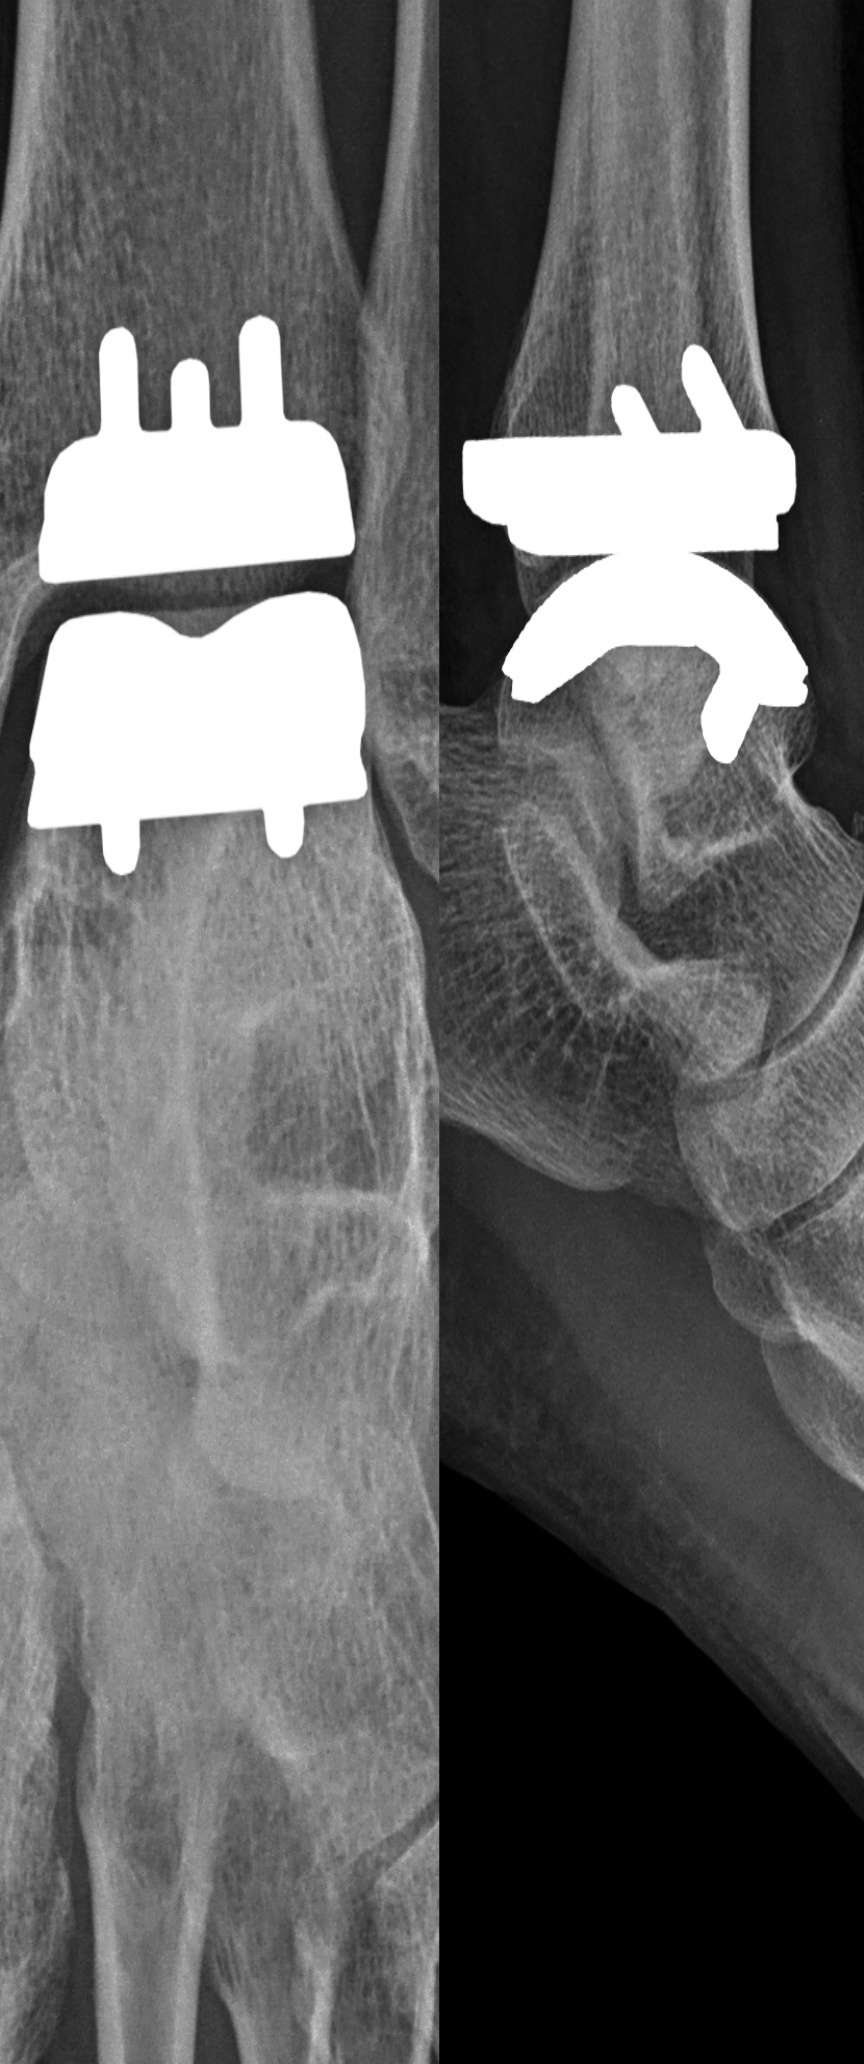Ankle - Infinity - Wright: (24, 311, 381, 882), (448, 332, 819, 769)
